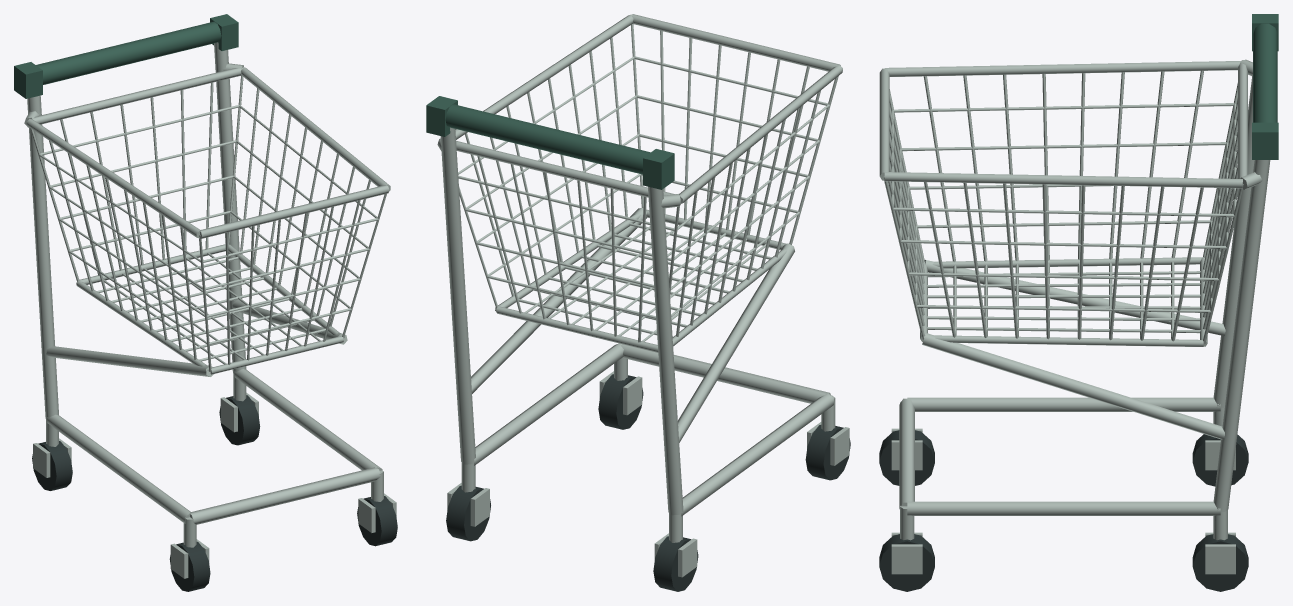
Rendered from cart-v1.glb.
The picture shows the model from 3 angles, left to right: view 1: azimuth 30°, elevation 25°; view 2: azimuth 150°, elevation 25°; view 3: azimuth 270°, elevation 25°; orthographic projection. The views are drawn at different scales.
Visible parts, largest first — view 1: 소형 철망 쇼핑카트; view 2: 소형 철망 쇼핑카트; view 3: 소형 철망 쇼핑카트.
Part boxes in pixels (left/top/right/bottom): 소형 철망 쇼핑카트: left=14, top=14, right=397, bottom=591; 소형 철망 쇼핑카트: left=426, top=14, right=850, bottom=591; 소형 철망 쇼핑카트: left=879, top=14, right=1278, bottom=591.
Size of the model in its own units: 0.5167 by 0.9115 by 0.714.
